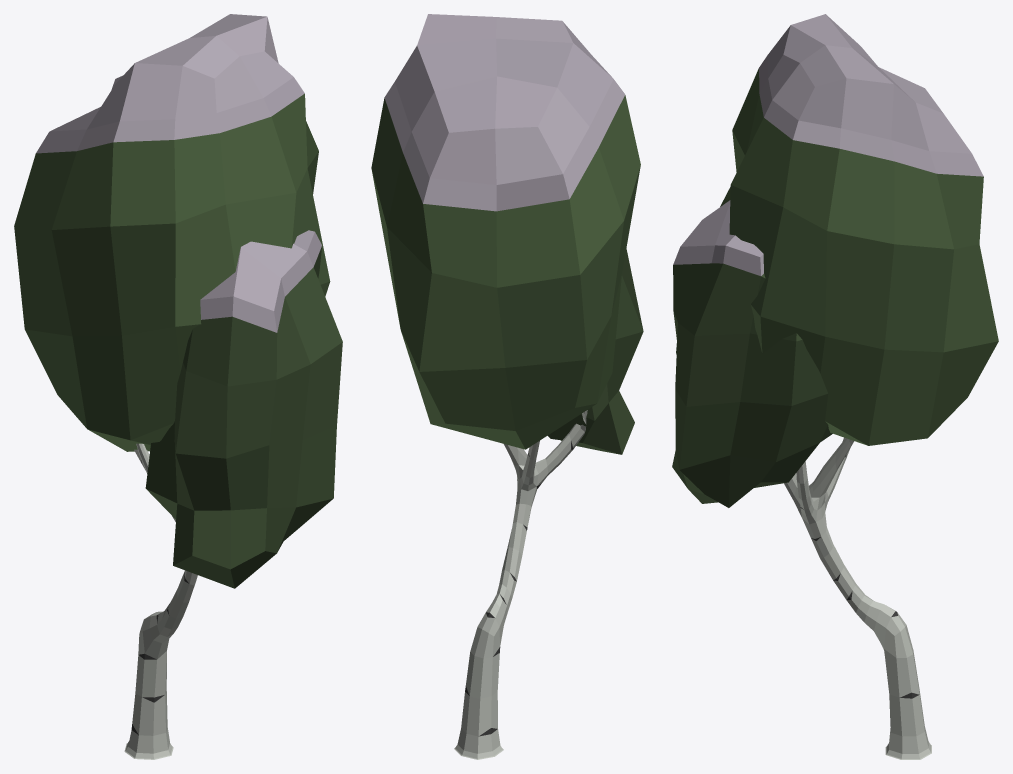
The model's file is BirchTree_Snow_2.gltf.
3 renders of one model, left to right at view 1: azimuth 30°, elevation 25°; view 2: azimuth 150°, elevation 25°; view 3: azimuth 270°, elevation 25°, orthographic. The views are drawn at different scales.
Visible parts, largest first — view 1: BirchTree_Snow_2; view 2: BirchTree_Snow_2; view 3: BirchTree_Snow_2.
Part boxes in pixels (box(x1,y1,x2,y2)): BirchTree_Snow_2: box(14, 14, 342, 759); BirchTree_Snow_2: box(371, 14, 643, 759); BirchTree_Snow_2: box(672, 14, 998, 759).
Bounding box in the file's own units: 1.47 × 4.09 × 1.69.
